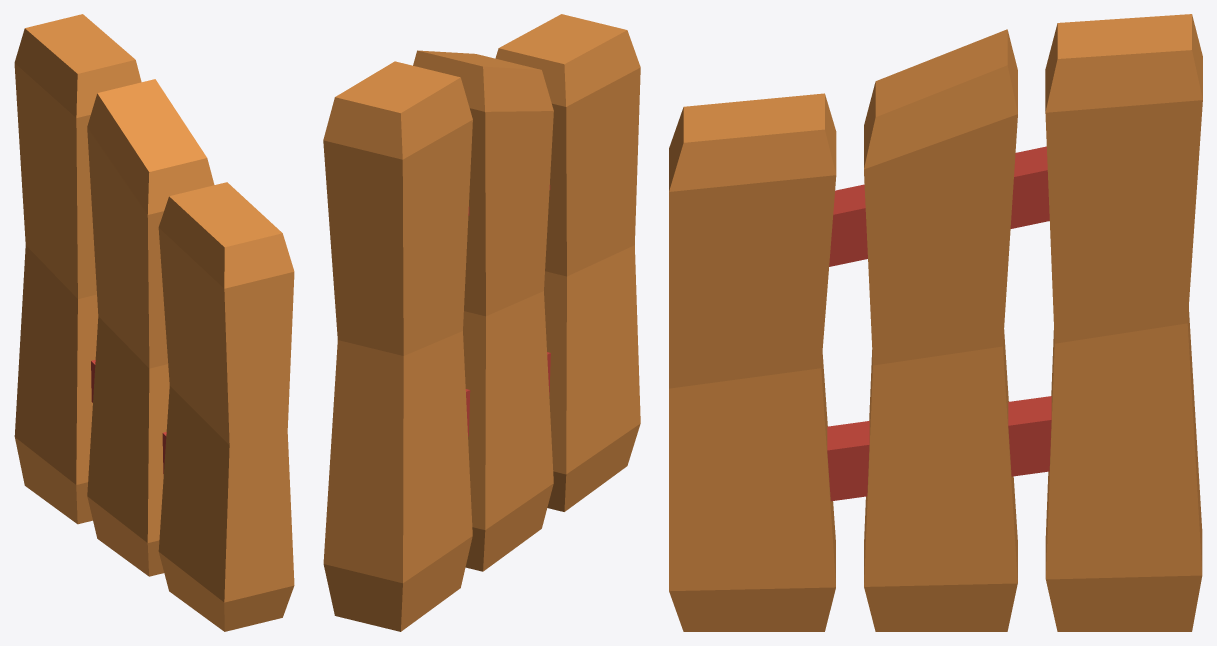
Rendered from FenceDoorHalf.fbx.
The picture shows the model from 3 angles, left to right: view 1: azimuth 30°, elevation 25°; view 2: azimuth 150°, elevation 25°; view 3: azimuth 270°, elevation 25°; orthographic projection. The views are drawn at different scales.
Visible parts, largest first — view 1: FenceDoorHalf; view 2: FenceDoorHalf; view 3: FenceDoorHalf.
Part boxes in pixels (left/top/right/bottom): FenceDoorHalf: left=14, top=14, right=294, bottom=631; FenceDoorHalf: left=323, top=14, right=640, bottom=631; FenceDoorHalf: left=669, top=14, right=1202, bottom=631.
Size of the model in its own units: 125 by 782 by 651.
